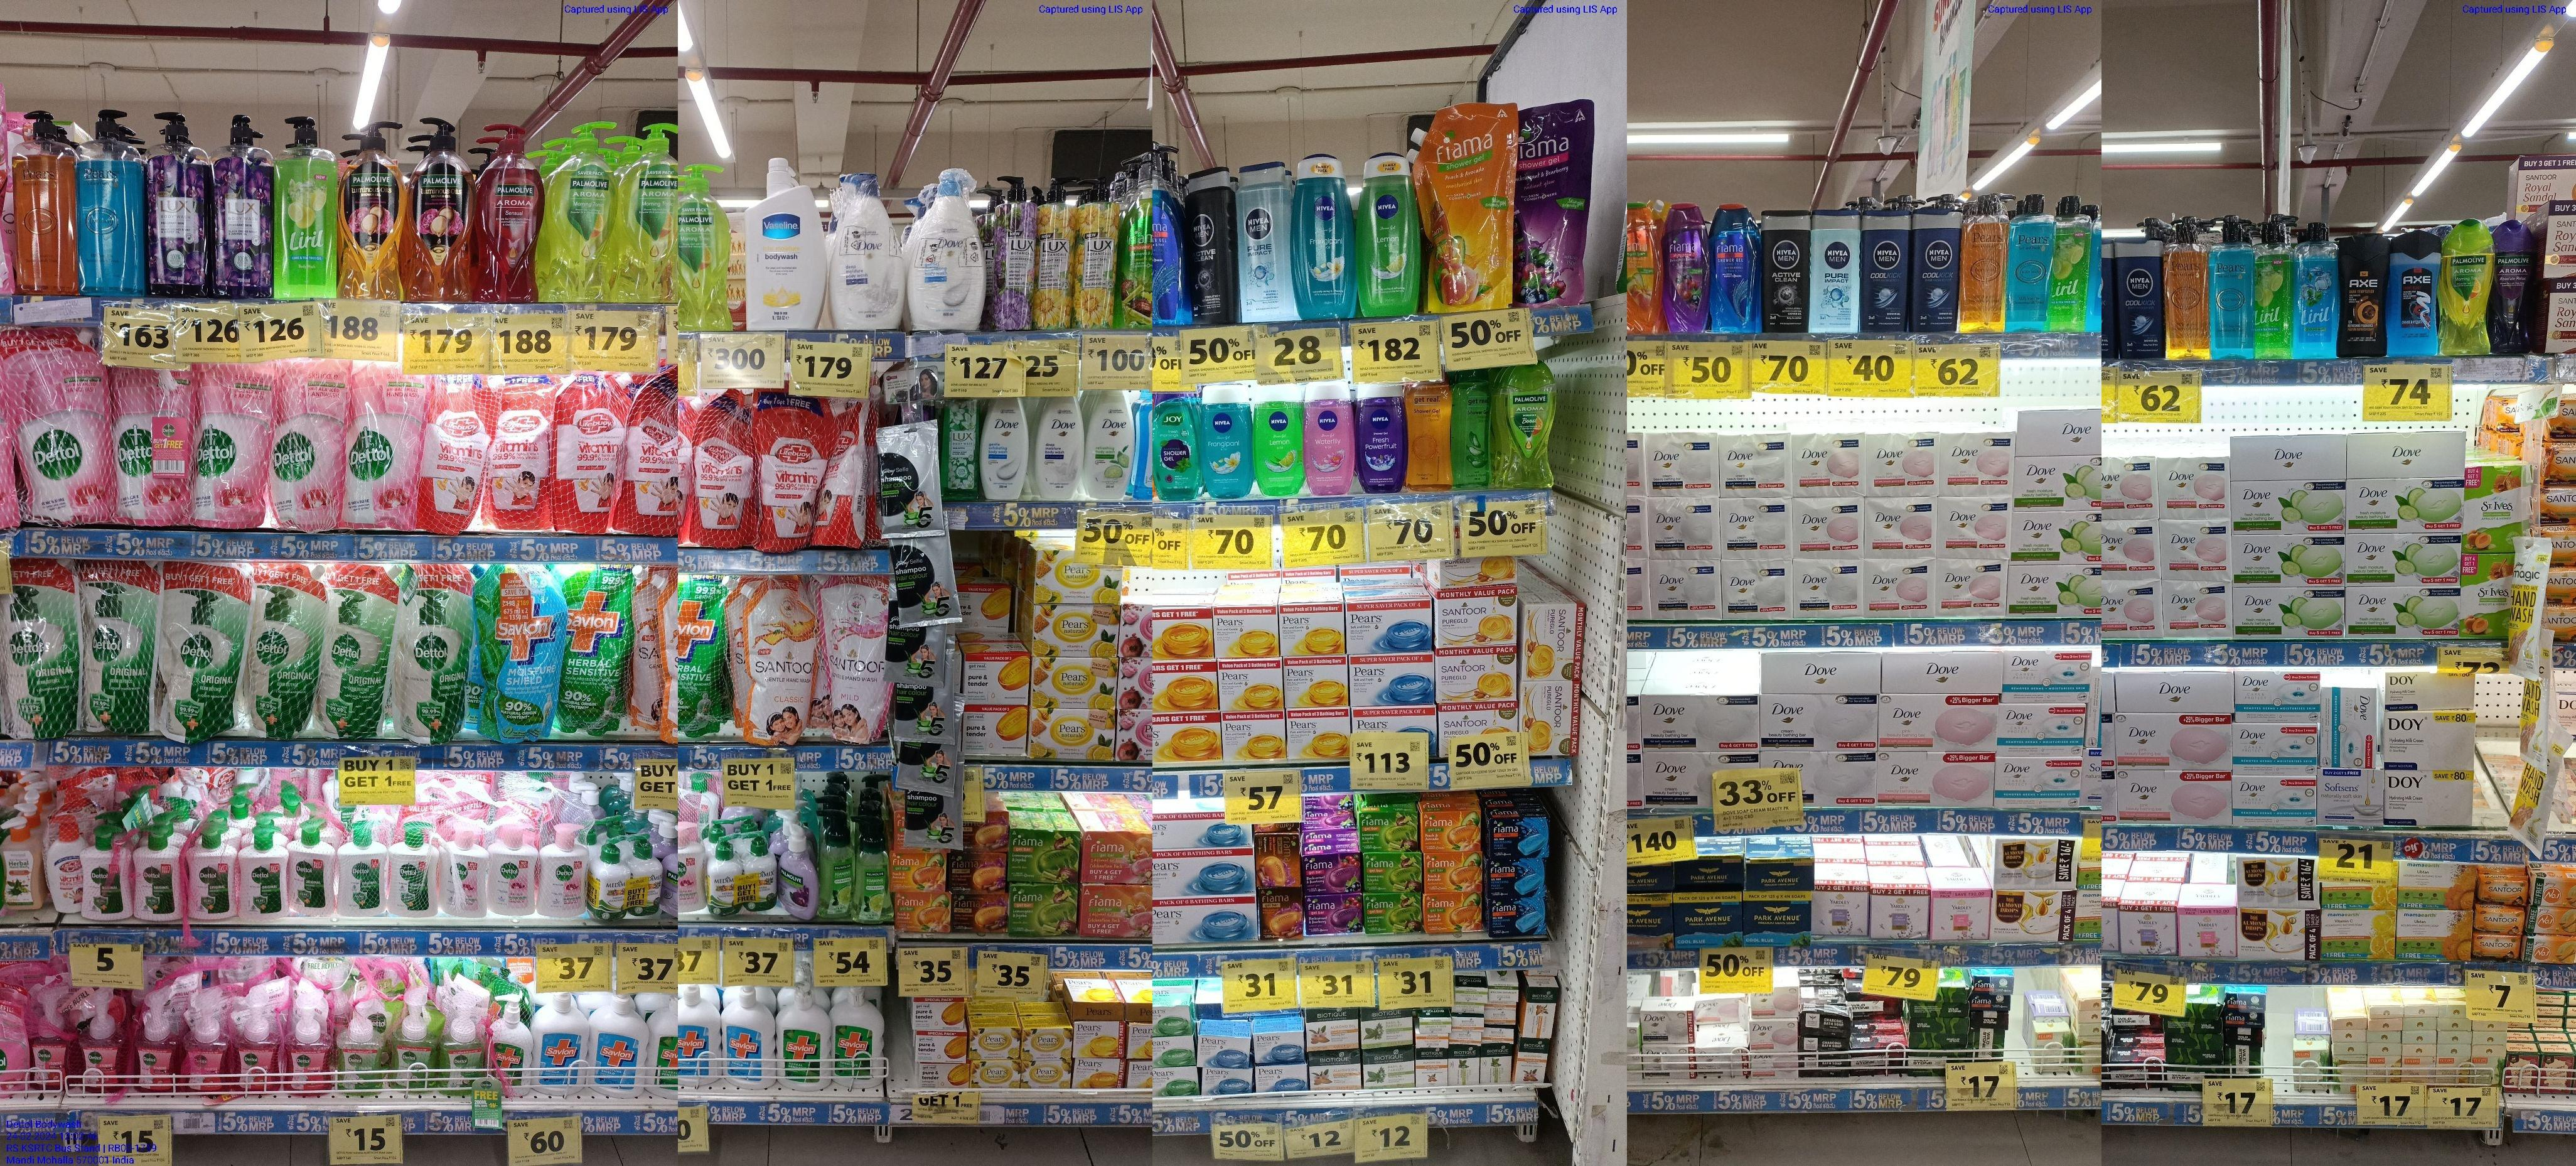Dove_Deep_Moisture_Body_Wash_250ML: (1035, 395, 1086, 500)
Dove_Gentle_Exfoliating_Body_Wash_250ML: (979, 393, 1028, 500)
Dove_Refreshing_Body_Wash_250ML: (1086, 391, 1134, 500)
Get_Real_Shower_Gel_Moisturising_Glycerin_300ML: (1406, 380, 1452, 492)
Nivea_Shower_Gel_Frangipani_and_Oil_250ML: (1293, 155, 1354, 322), (1199, 382, 1255, 497)
Nivea_Shower_Gel_Lemon_and_Oil_250ML: (1355, 151, 1421, 314), (1255, 382, 1304, 497)
Nivea_Shower_Gel_Waterlily_and_Oil_250ML: (1306, 378, 1357, 495), (1359, 382, 1406, 493)
